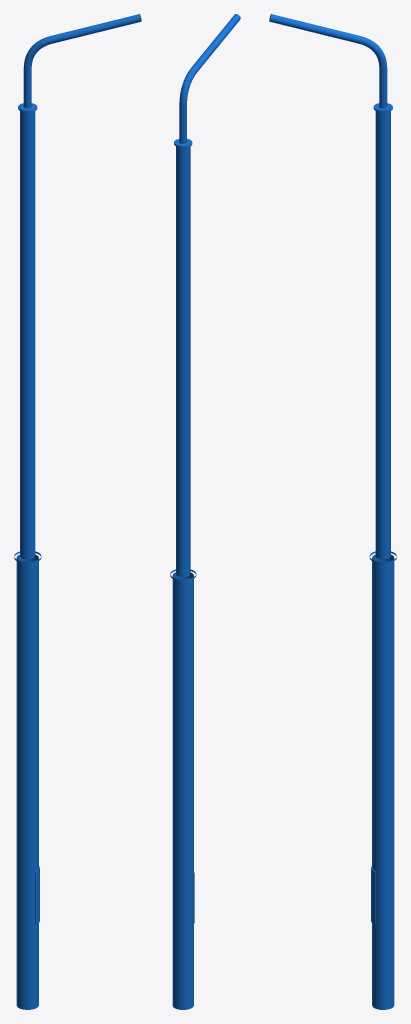
The picture shows the model from 3 angles, left to right: view 1: azimuth 90°, elevation 25°; view 2: azimuth 150°, elevation 25°; view 3: azimuth 270°, elevation 25°; orthographic projection. The views are drawn at different scales.
Visible parts, largest first — view 1: B-26; view 2: B-26; view 3: B-26.
Boxes of the visible parts, x1,y1,x2,y2 form: B-26: [14, 14, 141, 1009]; B-26: [170, 14, 240, 1009]; B-26: [269, 14, 396, 1009].
Bounding box in the file's own units: 13.71 × 551 × 64.38.
